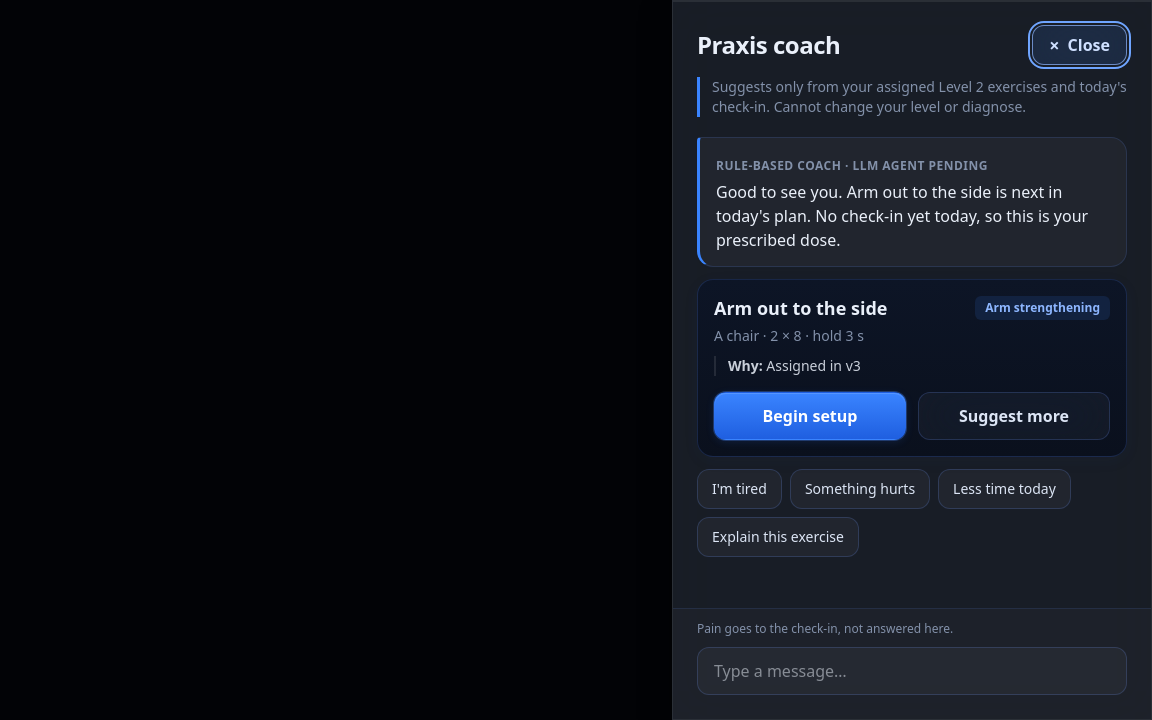
Scenario: "Explain this exercise" answers with the exercise steps
This screenshot has width=1152, height=720.
Expected: the button "Begin setup" is shown, x1=714 y1=392 x2=906 y2=440
Click the button "Explain this exercise" at (778, 537), box x1=697 y1=517 x2=859 y2=557
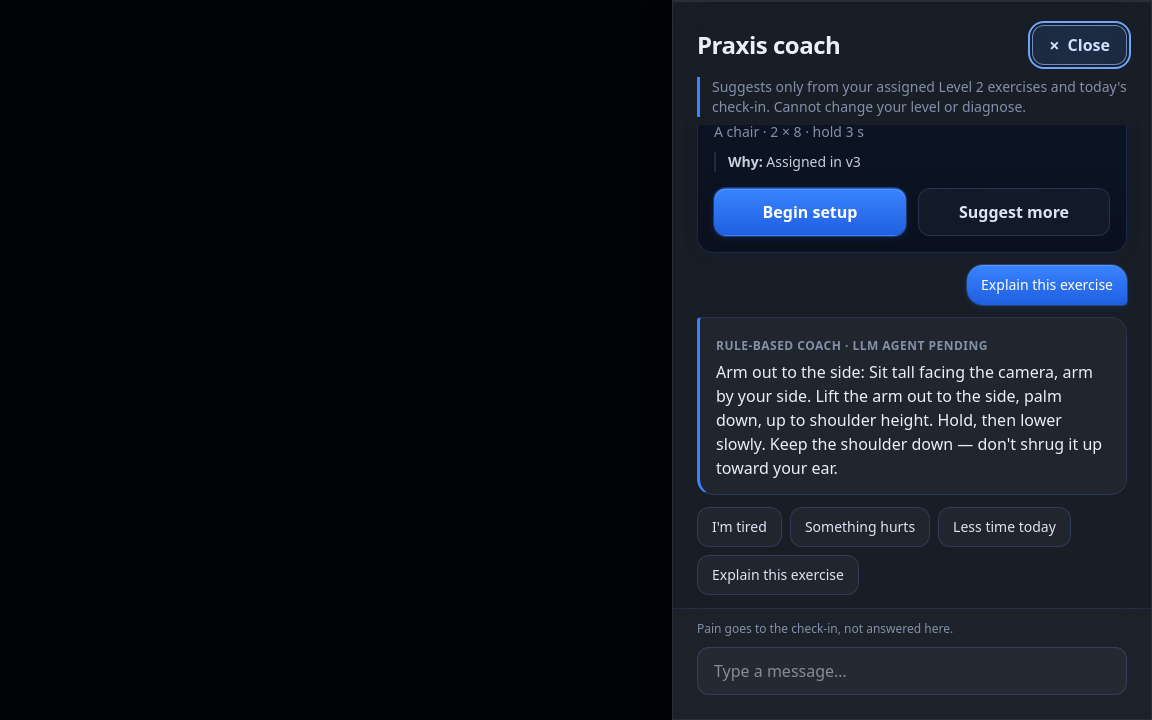
Expected: the text "Lift the arm out to the side, palm down, up to shoulder height" is shown, x1=716 y1=361 x2=1102 y2=479
